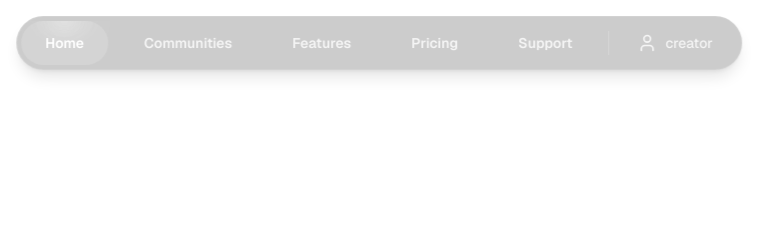
Scenario: Navigation Integration Tests › Authenticated User › should close user menu after sign out
Click the button "creator". click: (675, 43)
box: [622, 21, 729, 65]
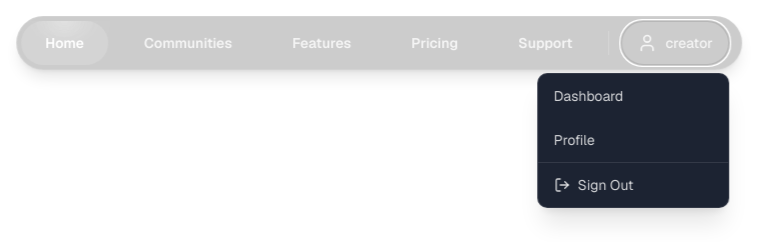
Click the button "Sign Out". click: (633, 185)
box: [538, 163, 728, 207]
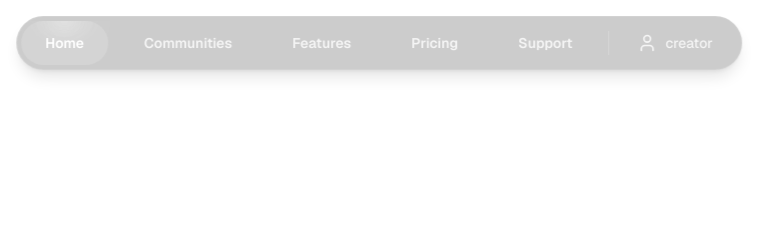
Result: the link "Dashboard" is gone
